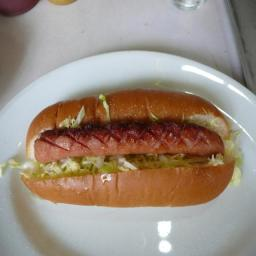hotdog: (20, 92, 247, 202)
